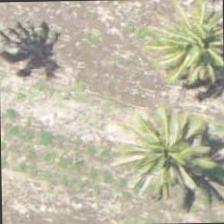Kelapa_Sawit: (119, 97, 210, 189), (154, 1, 223, 93)
